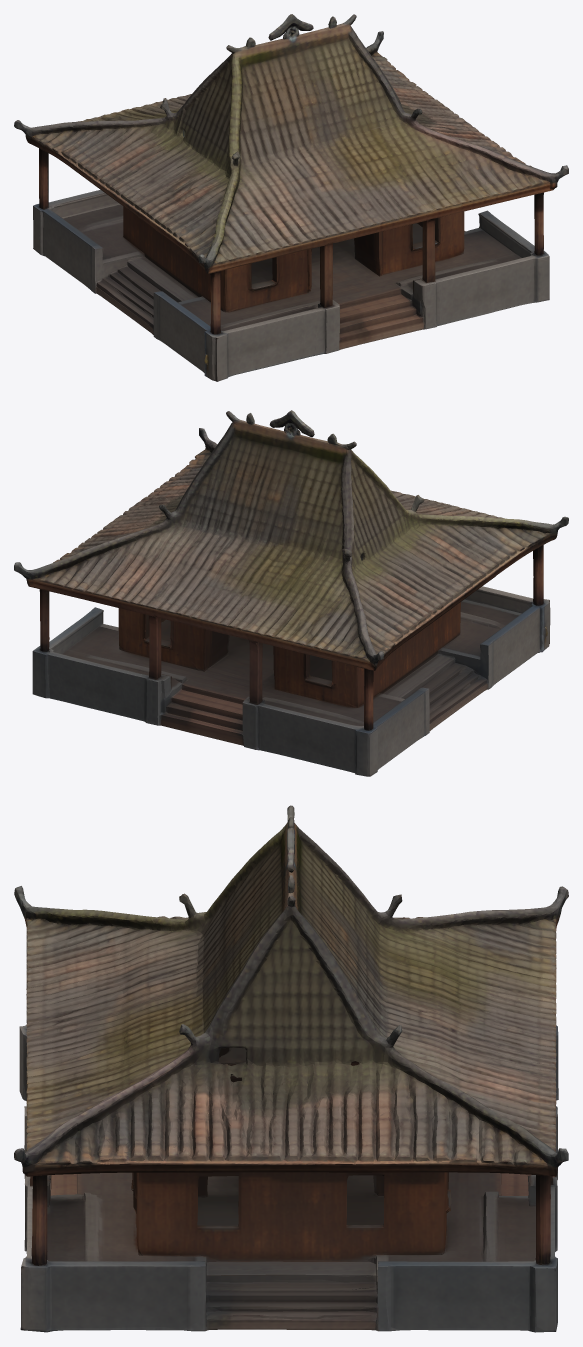
File: jawa-tengah.glb
The picture shows the model from 3 angles, top to bottom: view 1: azimuth 30°, elevation 25°; view 2: azimuth 150°, elevation 25°; view 3: azimuth 270°, elevation 25°; orthographic projection. The views are drawn at different scales.
Parts seen in each view (by area): view 1: world; view 2: world; view 3: world.
Part boxes in pixels (bbox=[...]): world: bbox=[14, 14, 568, 381]; world: bbox=[14, 410, 568, 776]; world: bbox=[14, 805, 568, 1332].
Size of the model in its own units: 1 by 0.677 by 0.8842.
Materials: 1 (1 with a texture image).
